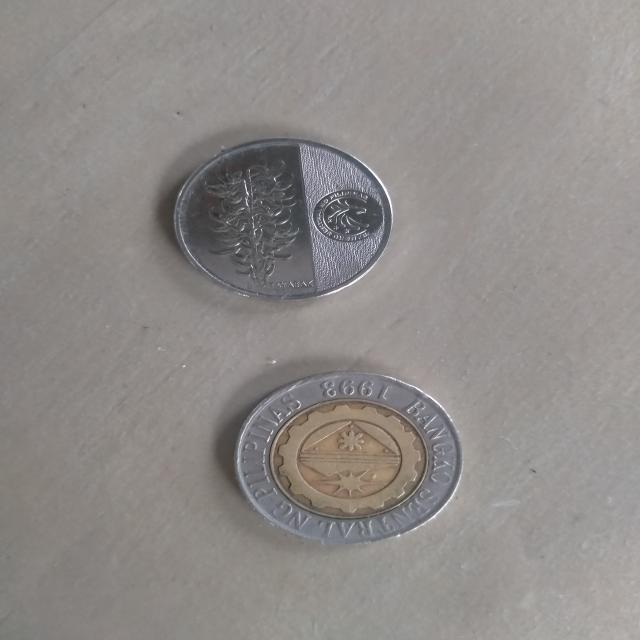10_Old_Back: (236, 368, 461, 546)
5_New_Back: (201, 157, 314, 284)
